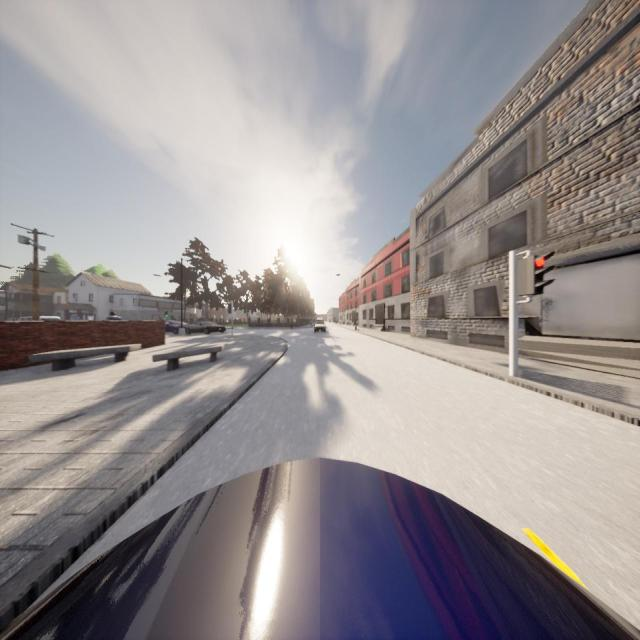Pedestrian: (104, 311, 122, 320), (290, 317, 294, 330)
Vehicle: (1, 458, 640, 640), (186, 321, 226, 335), (165, 320, 186, 335), (314, 320, 326, 332)
traffic_light: (512, 249, 556, 298), (228, 304, 232, 314), (164, 312, 168, 318)
